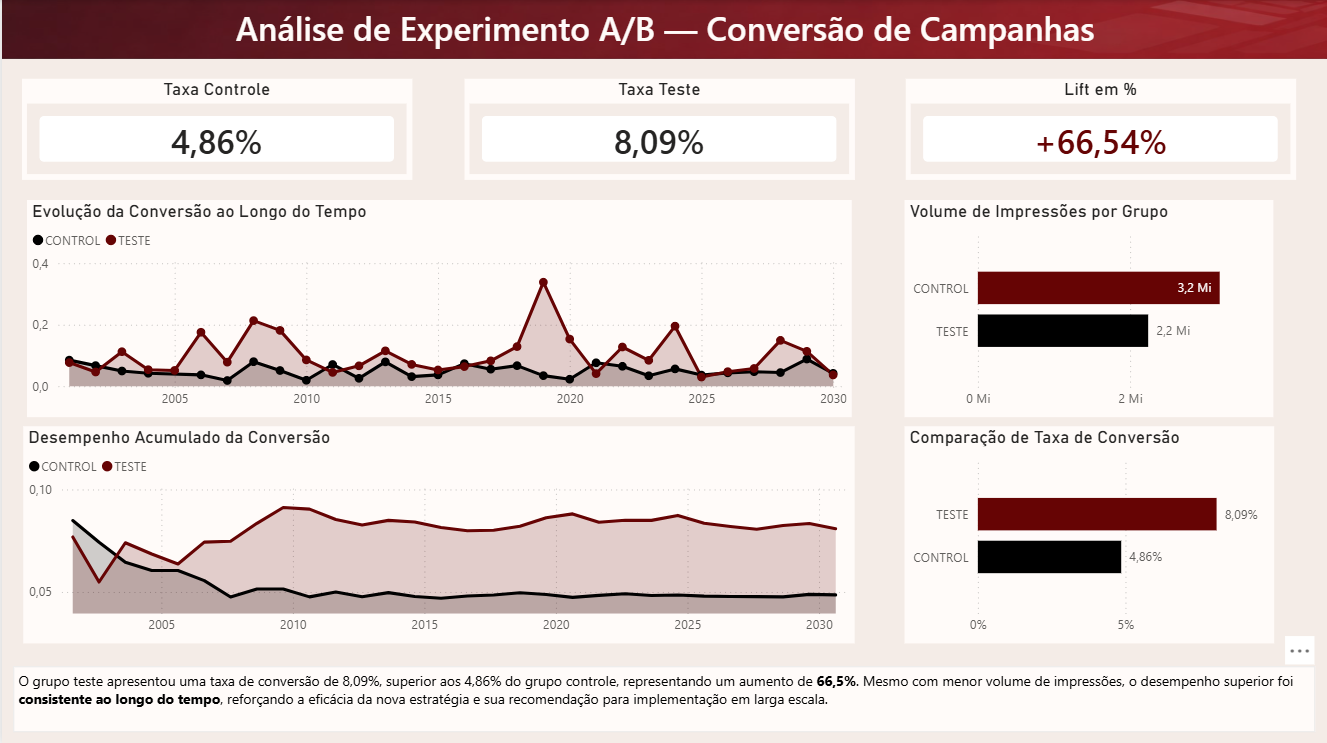

What the dashboard file says about the page in this screenshot:
{"tool":"powerbi","page":{"name":"Duplicata de Página 1","canvas":[1280,720],"ordinal":1},"visuals":[{"type":"cardVisual","title":"Taxa Controle","fields":{"Data":["ab_data.Taxa Controle"]},"box":[19.3,75.6,376.4,97.7],"z":0},{"type":"barChart","title":"Comparação de Taxa de Conversão","fields":{"Category":["ab_data.grupo"],"Y":["ab_data.Taxa Conversao"]},"box":[871.1,411.4,357.1,209.9],"z":1000},{"type":"barChart","title":"Volume de Impressões por Grupo","fields":{"Category":["ab_data.grupo"],"Y":["Sum(ab_data.impressions)"]},"box":[871.1,193,355.9,209.9],"z":2000},{"type":"textbox","box":[11,643.6,1257,63.1],"z":3000},{"type":"lineChart","title":"Desempenho Acumulado da Conversão","fields":{"Y":["ab_data.Taxa Conversao Acumulada"],"Series":["ab_data.grupo"],"Category":["ab_data.date"]},"box":[20.5,411.4,802.3,209.9],"z":4000},{"type":"cardVisual","title":"Taxa Teste ","fields":{"Data":["ab_data.Taxa Teste"]},"box":[445.8,75.6,376.4,97.7],"z":5000},{"type":"cardVisual","title":"Lift em %","fields":{"Data":["ab_data.Lift %"]},"box":[872.3,75.6,376.4,97.7],"z":6000},{"type":"lineChart","title":"Evolução da Conversão ao Longo do Tempo","fields":{"Series":["ab_data.grupo"],"Category":["ab_data.date.Variation.Hierarquia de datas.Ano","ab_data.date.Variation.Hierarquia de datas.Mês"],"Y":["ab_data.Taxa Conversao"]},"box":[24.1,193,796.3,209.9],"z":7000},{"type":"textbox","box":[0,0,1280,56.7],"z":8000}]}

Visuals, with their boxes in screenshot pixels (x1, y1, x2, y2), scaled from the page's 1280x720 canvas onto the 1327x743 screenshot:
"Taxa Controle" cardVisual: l=20, t=78, r=410, b=179
"Comparação de Taxa de Conversão" barChart: l=903, t=425, r=1273, b=641
"Volume de Impressões por Grupo" barChart: l=903, t=199, r=1272, b=416
textbox: l=11, t=664, r=1315, b=729
"Desempenho Acumulado da Conversão" lineChart: l=21, t=425, r=853, b=641
"Taxa Teste " cardVisual: l=462, t=78, r=852, b=179
"Lift em %" cardVisual: l=904, t=78, r=1295, b=179
"Evolução da Conversão ao Longo do Tempo" lineChart: l=25, t=199, r=851, b=416
textbox: l=0, t=0, r=1326, b=59
